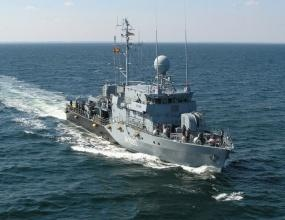warship: (68, 12, 236, 175)
